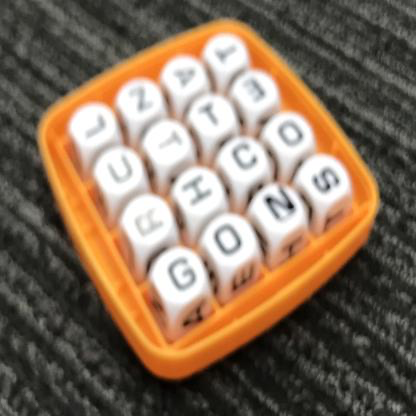a: (169, 60, 203, 92)
c: (224, 137, 264, 175)
e: (234, 73, 275, 106)
g: (166, 252, 205, 299)
h: (175, 171, 219, 217)
l: (81, 108, 116, 149)
n: (258, 182, 304, 224)
o: (271, 112, 308, 151), (212, 223, 245, 261)
r: (128, 203, 171, 240)
s: (308, 163, 345, 201)
t: (190, 96, 230, 133), (151, 125, 188, 160), (210, 36, 245, 69)
u: (98, 149, 142, 191)
z: (121, 76, 159, 115)
